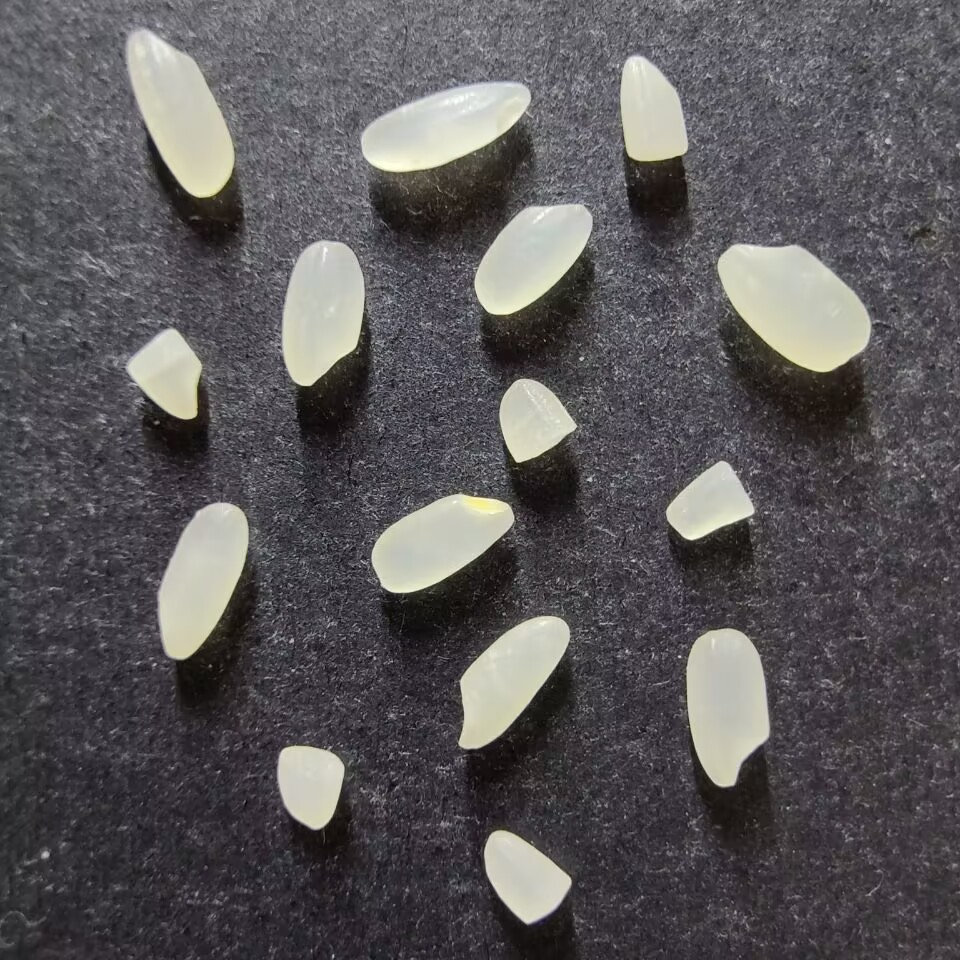broken: (482, 830, 573, 924), (618, 53, 689, 162), (664, 460, 756, 540), (126, 326, 203, 420), (498, 377, 578, 463), (277, 745, 345, 831)
rice: (716, 243, 872, 373), (125, 29, 235, 198), (359, 79, 530, 172), (456, 614, 570, 750), (157, 503, 249, 660), (370, 495, 514, 594), (473, 202, 592, 315), (685, 628, 769, 787), (280, 240, 365, 388)
